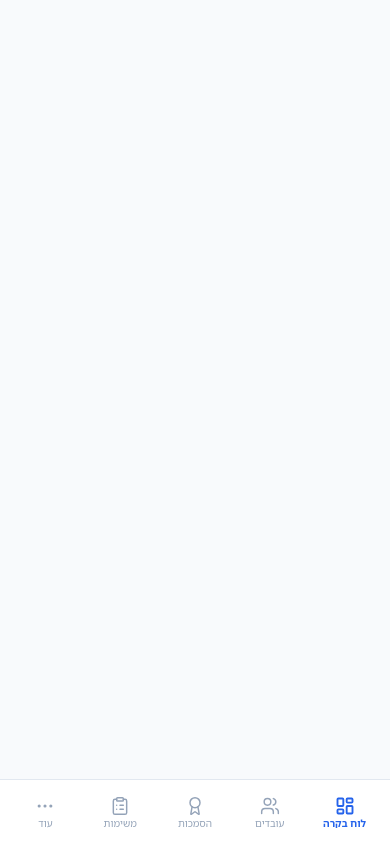
Test: Sidebar — guest & overflow edge cases › hides /dashboard/import and /dashboard/candidates from pinned AND sheet when isGuest
Note: Also not in sheet after opening
Click the button with aria-label "עוד אפשרויות ניווט" at (45, 812), box [8, 790, 83, 834]
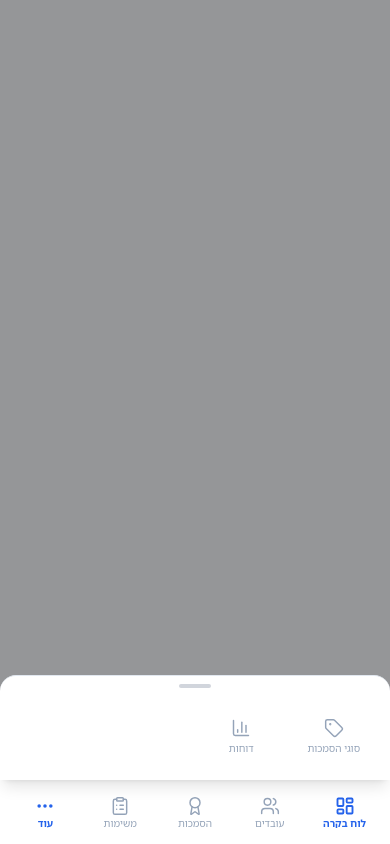
Expected: the link to "/dashboard/cert-types" is shown, [307, 718, 360, 755]
Expected: the link to "/dashboard/reports" is shown, [229, 718, 254, 755]
